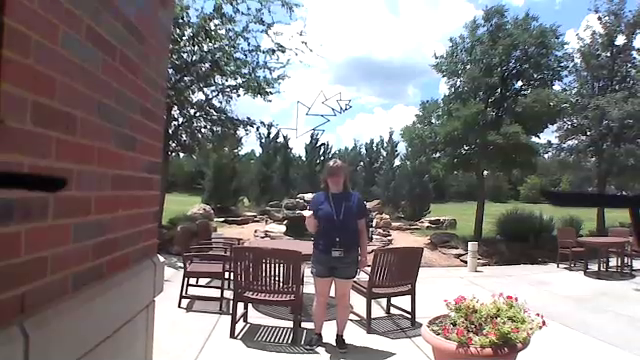land: (293, 204, 316, 219)
